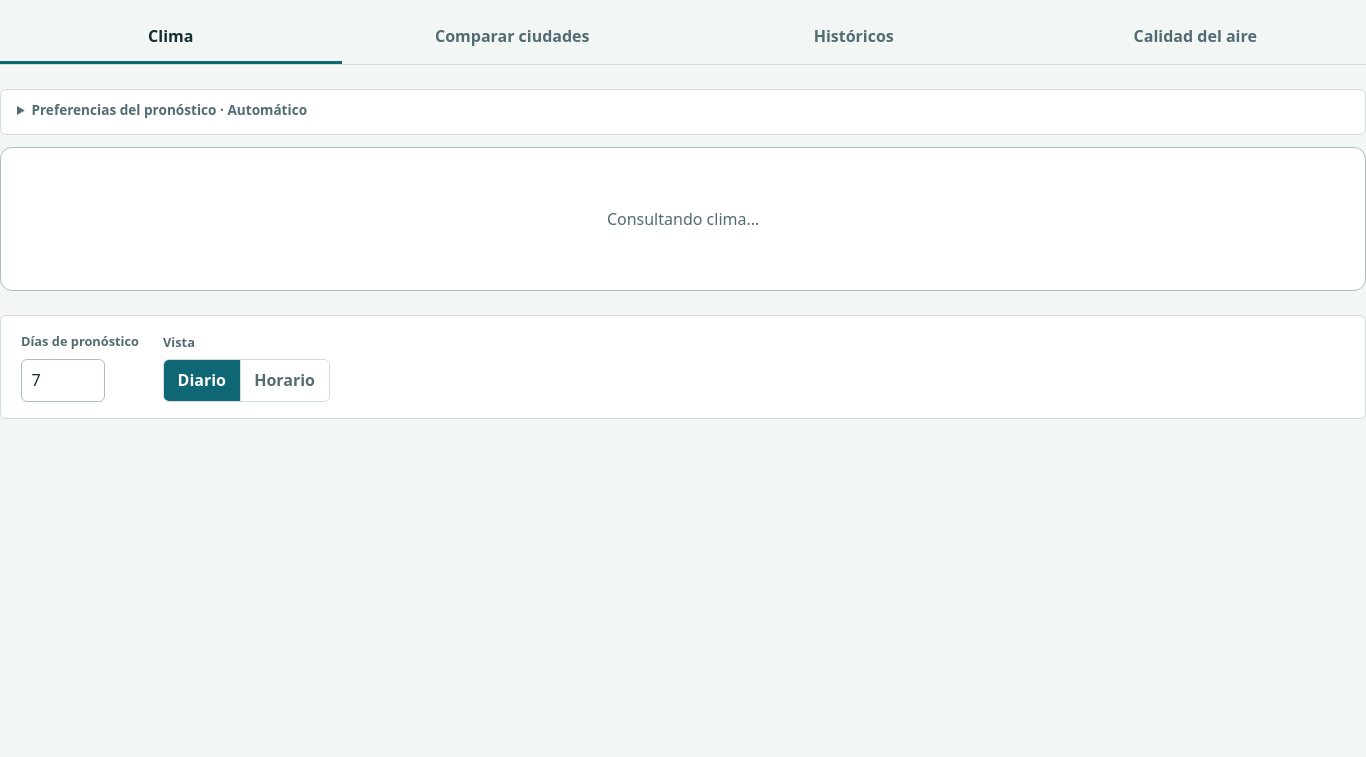
Test: CurrentWeather › permite incluir en la comparación la ubicación activa de RF-03
The image size is (1366, 757).
Click the button "Comparar ciudades" at (512, 38), box [342, 11, 683, 64]
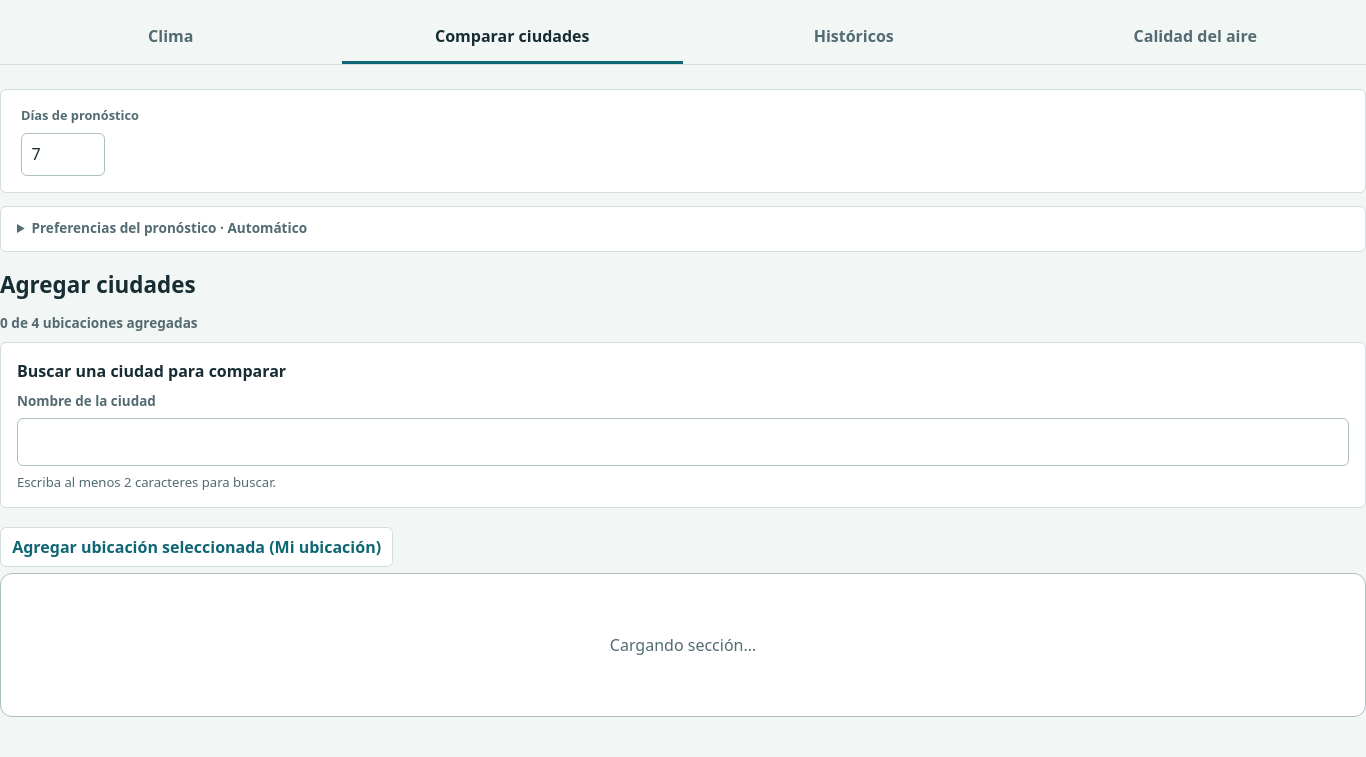
Click the button "Agregar ubicación seleccionada (Mi ubicación)" at (197, 547), box [0, 527, 393, 567]
(page scrolled)
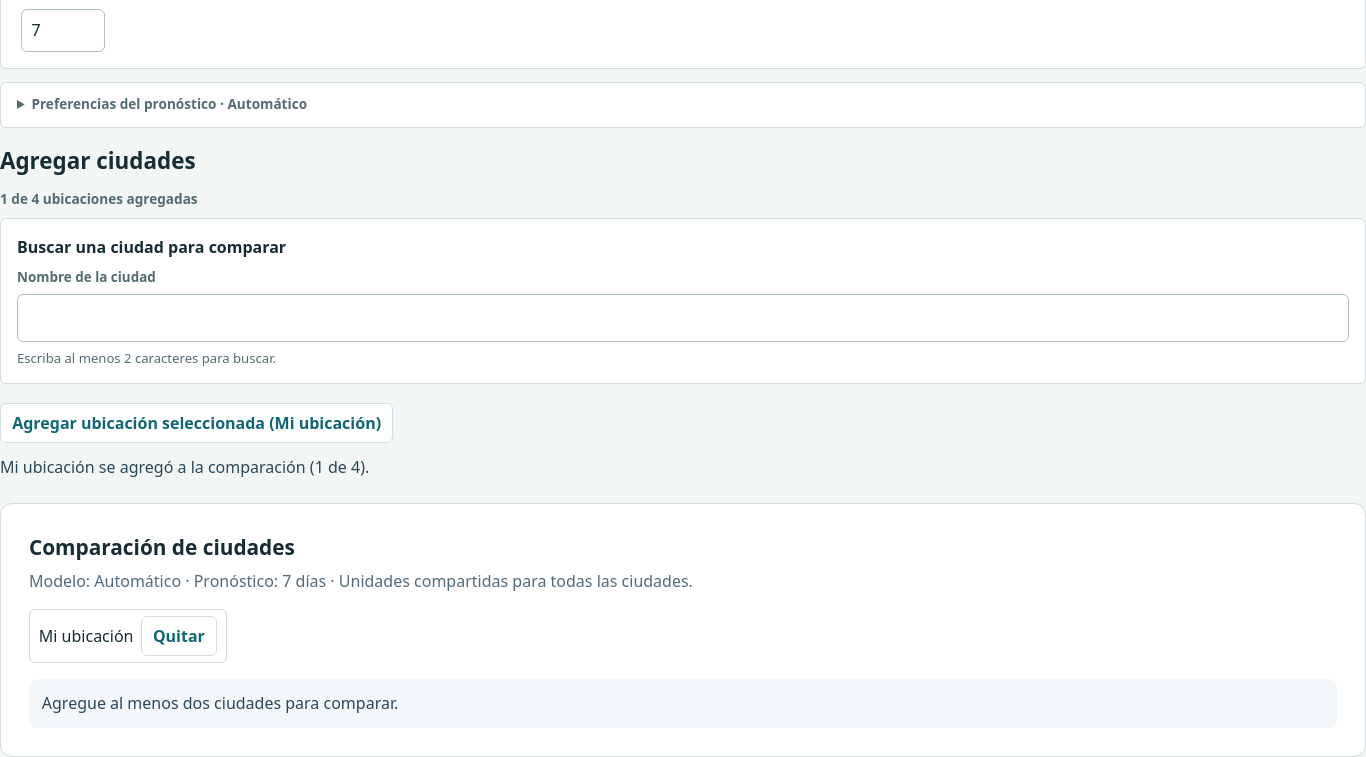
expect the button named "Quitar Mi ubicación de la comparación" is shown: met, box [141, 616, 217, 656]
expect the text "Agregue al menos dos ciudades para comparar." is shown: met, box [29, 678, 1337, 728]
